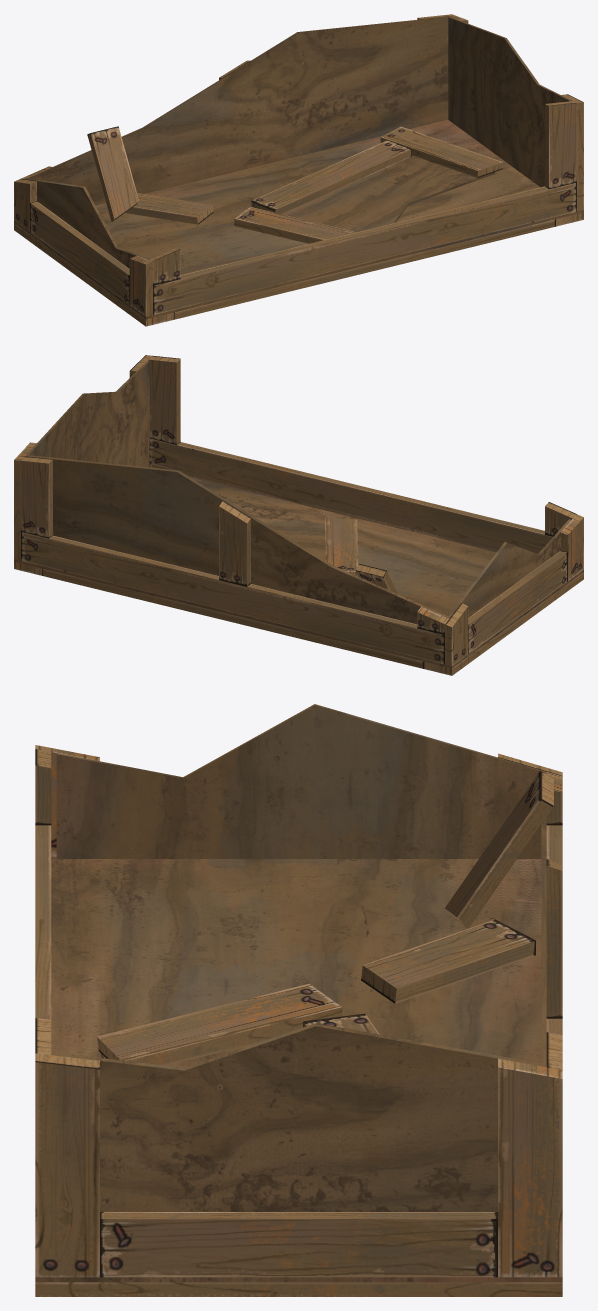
Rendered from crate05_C.fbx.
3 views of the same model, one above another, from view 1: azimuth 30°, elevation 25°; view 2: azimuth 150°, elevation 25°; view 3: azimuth 270°, elevation 25° (orthographic). The views are drawn at different scales.
Parts seen in each view (by area): view 1: crate05_C; view 2: crate05_C; view 3: crate05_C.
Boxes of the visible parts, x1,y1,x2,y2 form: crate05_C: (14, 14, 583, 326); crate05_C: (14, 355, 583, 675); crate05_C: (35, 704, 562, 1296).
Bounding box in the file's own units: 188 × 54.74 × 98.
